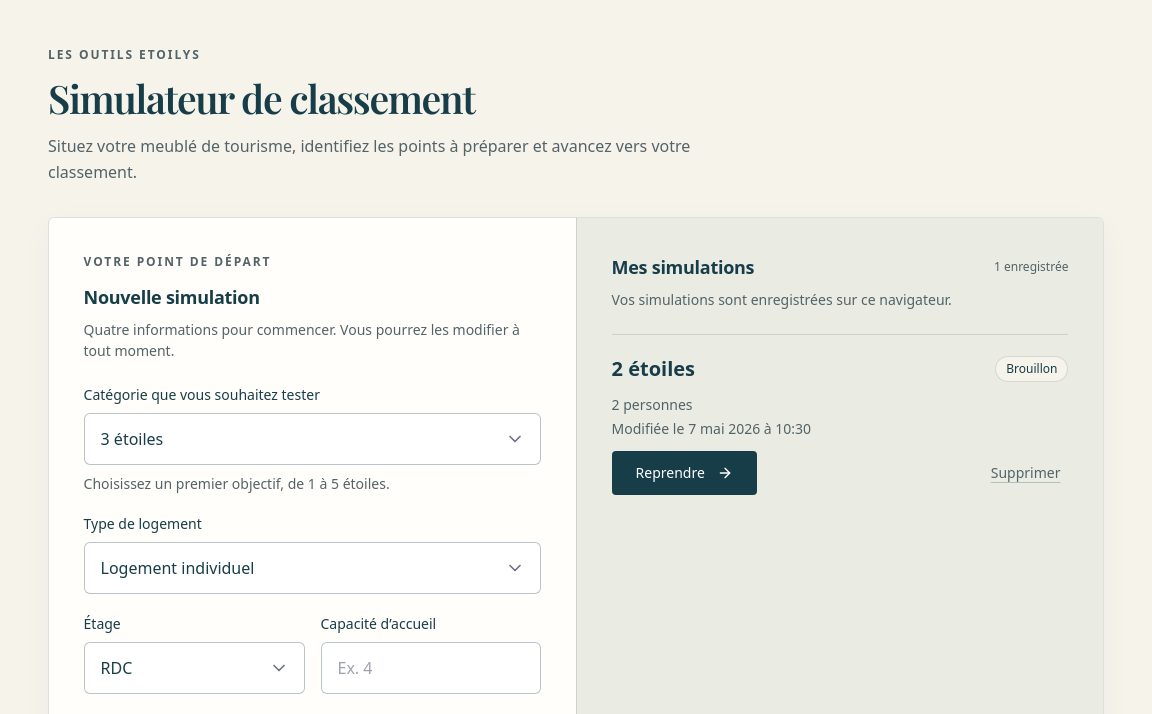
Scenario: Simulateur public de classement › conserve la simulation et affiche une erreur contextualisée si la suppression échoue
Click the button "Supprimer" at (1026, 473), box [983,451,1068,495]
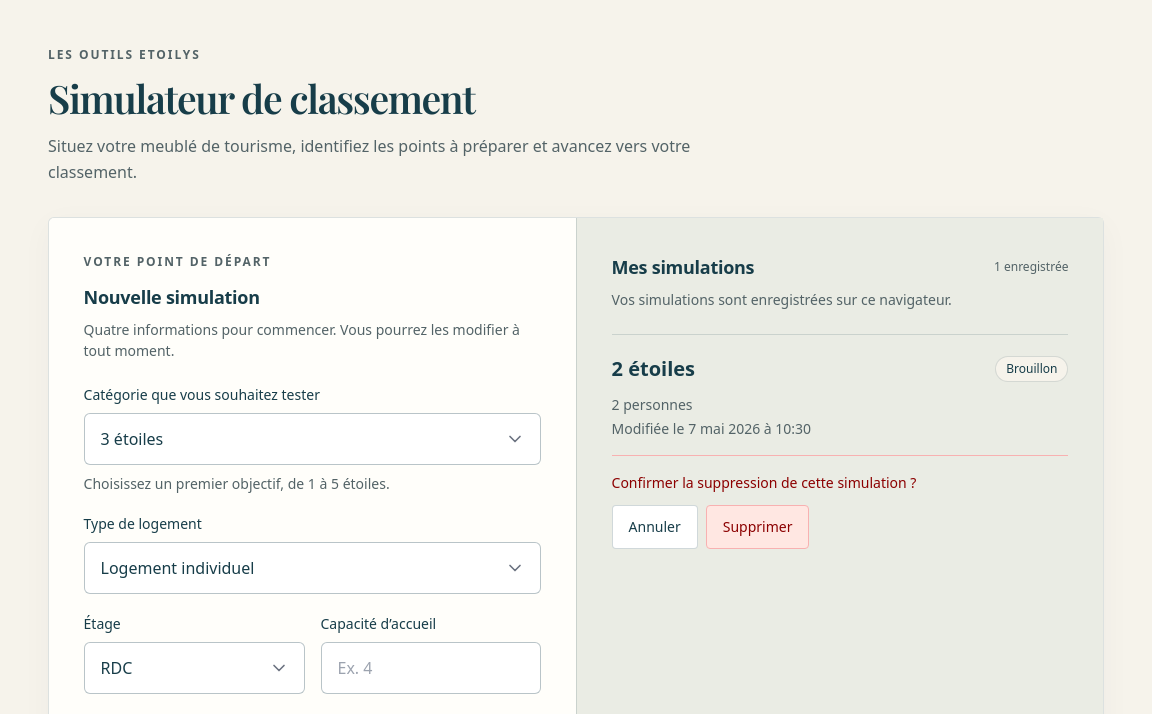
Click the button "Supprimer" at (758, 527), box [706,505,810,549]
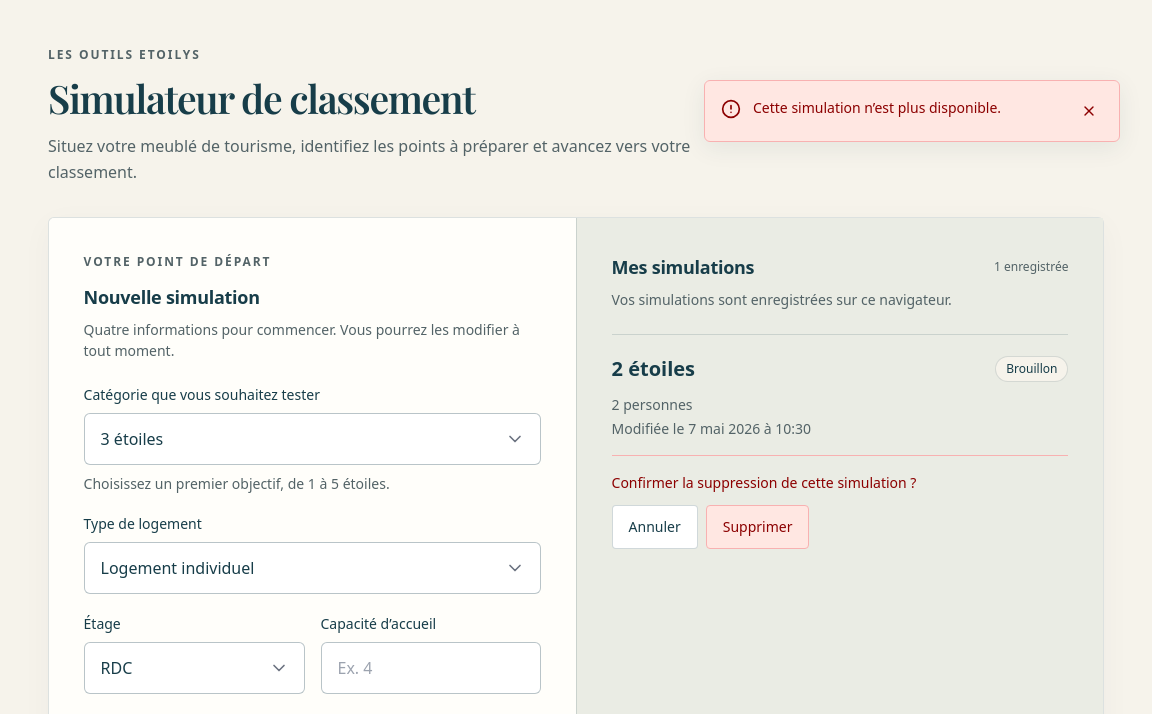
Expected: the heading "2 étoiles" is shown, [612,355,695,383]
Expected: the text "Confirmer la suppression de cette simulation ?" is shown, [612,473,916,492]
Expected: the text "Cette simulation n’est plus disponible." is shown, [753,98,1001,117]
